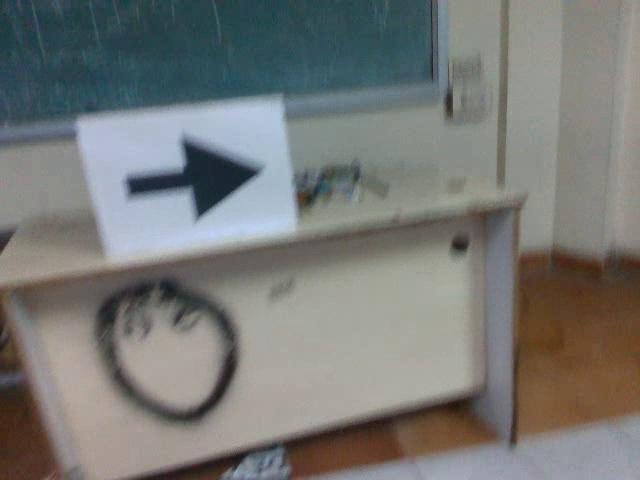Right: (111, 125, 268, 227)
